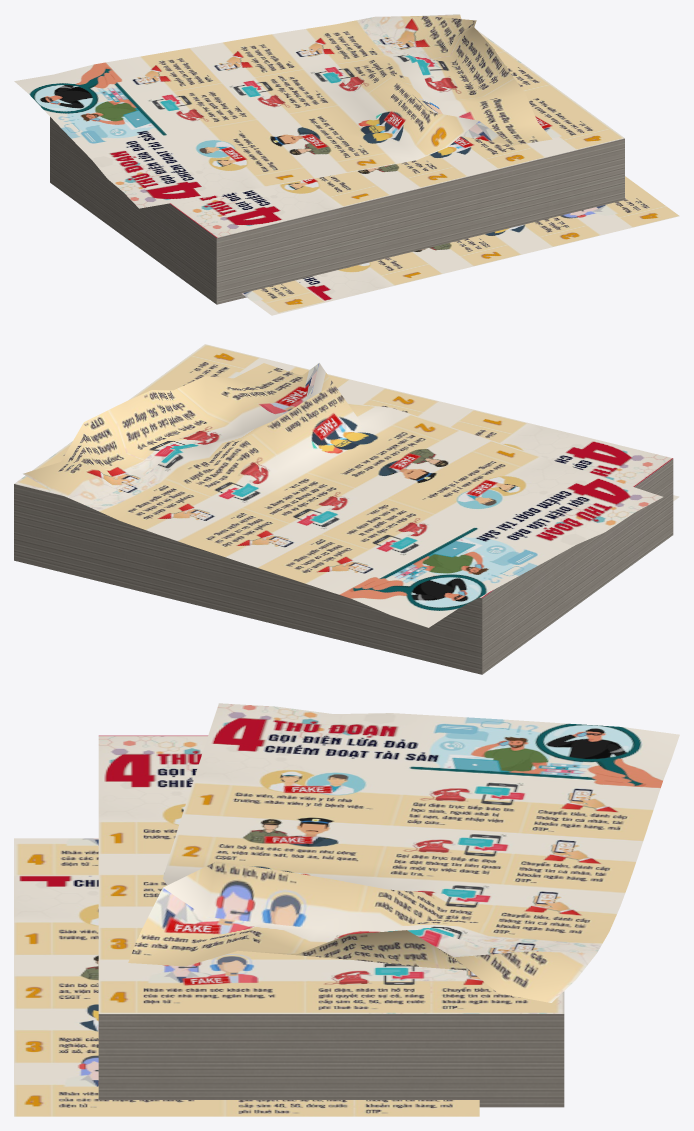
File: flyer.fbx
3 renders of one model, top to bottom at view 1: azimuth 30°, elevation 25°; view 2: azimuth 150°, elevation 25°; view 3: azimuth 270°, elevation 25°, orthographic. The views are drawn at different scales.
Visible parts, largest first — view 1: SM_A4_paper_fold_3; view 2: SM_A4_paper_fold_3; view 3: SM_A4_paper_fold_3.
Boxes of the visible parts, left/top/right/bottom form: SM_A4_paper_fold_3: left=14, top=14, right=679, bottom=315; SM_A4_paper_fold_3: left=14, top=344, right=679, bottom=674; SM_A4_paper_fold_3: left=14, top=703, right=679, bottom=1116.
Size of the model in its own units: 62.09 by 13.58 by 54.85.
Materials: 1 (1 with a texture image).
